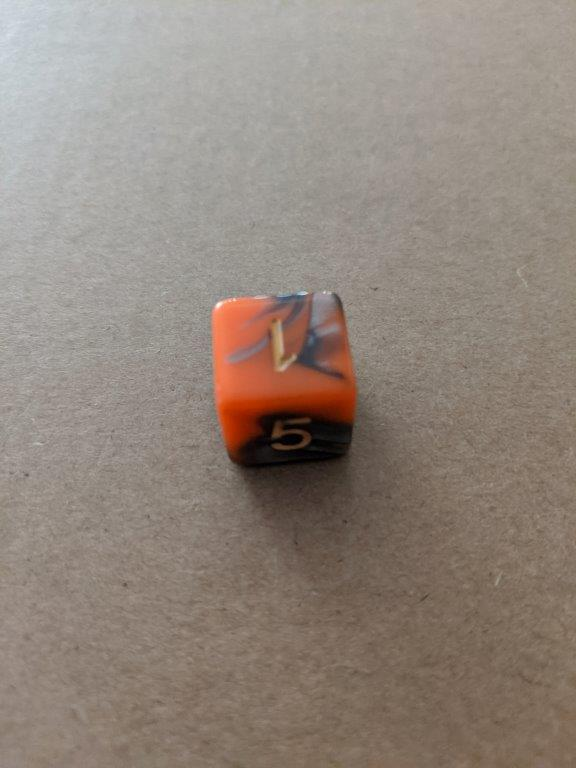d6-1: (210, 288, 359, 468)
